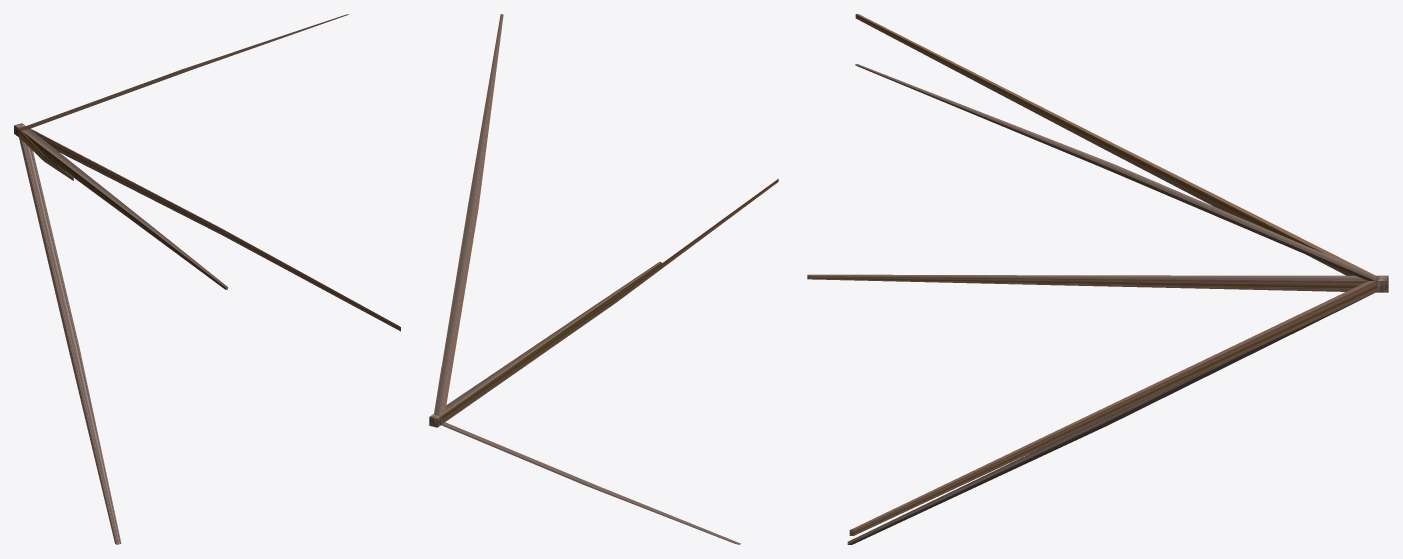
Rendered from blueberry-shrub.glb.
3 views of the same model, side by side, from view 1: azimuth 30°, elevation 25°; view 2: azimuth 150°, elevation 25°; view 3: azimuth 270°, elevation 25° (orthographic). The views are drawn at different scales.
Visible parts, largest first — view 1: Cube; view 2: Cube; view 3: Cube.
Part boxes in pixels (left/top/right/bottom): Cube: left=14, top=14, right=400, bottom=544; Cube: left=429, top=14, right=778, bottom=544; Cube: left=807, top=14, right=1388, bottom=544.
Bounding box in the file's own units: 2.68 × 3.7 × 3.1.
1 material, 1 textured.
